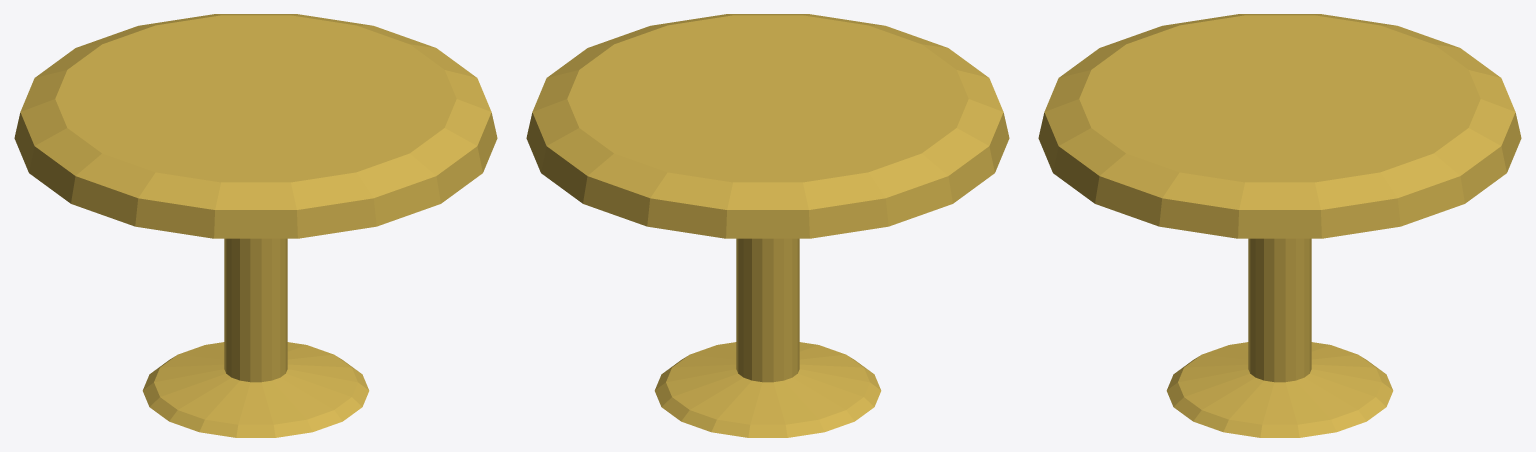
The model's file is mesa_lampara.fbx.
The picture shows the model from 3 angles, left to right: view 1: azimuth 30°, elevation 25°; view 2: azimuth 150°, elevation 25°; view 3: azimuth 270°, elevation 25°; orthographic projection.
Visible parts, largest first — view 1: Cylinder; view 2: Cylinder; view 3: Cylinder.
Part boxes in pixels (x1,y1,x2,y2): Cylinder: (14,14,497,437); Cylinder: (526,14,1009,437); Cylinder: (1038,14,1521,437).
Bounding box in the file's own units: 105 × 71.01 × 107.
